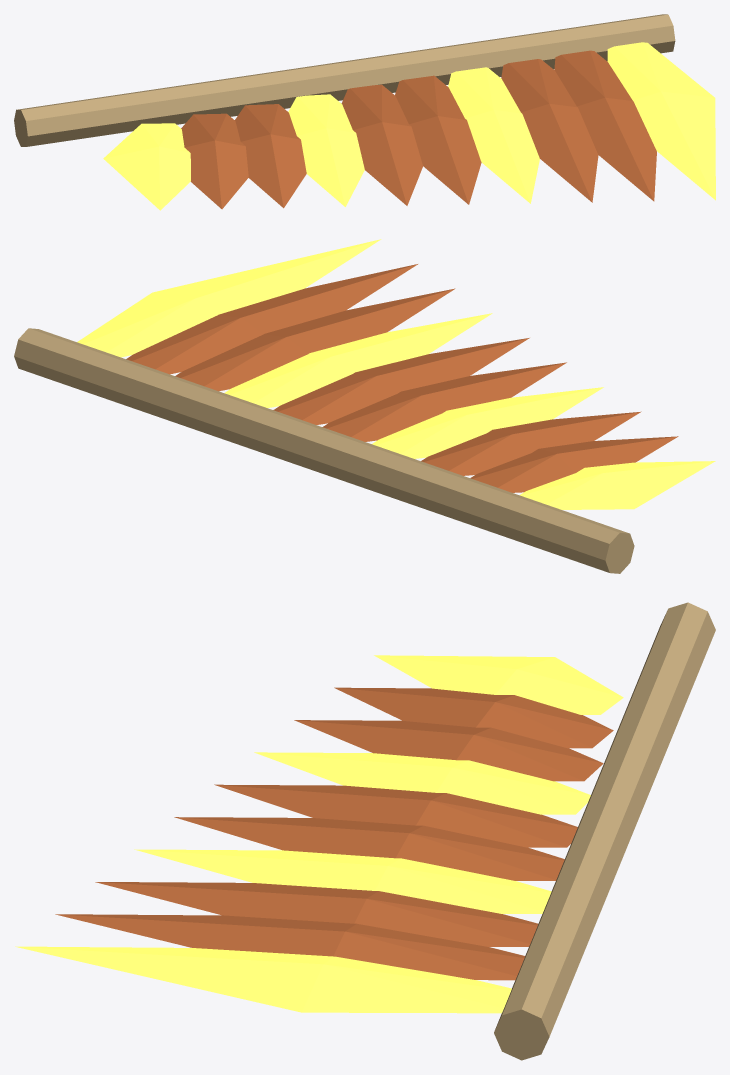
Rendered from wing_l_lod0.glb.
3 renders of one model, top to bottom at view 1: azimuth 30°, elevation 25°; view 2: azimuth 150°, elevation 25°; view 3: azimuth 270°, elevation 25°, orthographic. The views are drawn at different scales.
Visible parts, largest first — view 1: phoenix_wing_l_LOD0; view 2: phoenix_wing_l_LOD0; view 3: phoenix_wing_l_LOD0.
Part boxes in pixels (box(x1,y1,x2,y2)): phoenix_wing_l_LOD0: box(14, 14, 715, 210); phoenix_wing_l_LOD0: box(14, 239, 715, 573); phoenix_wing_l_LOD0: box(15, 602, 715, 1060).
Size of the model in its own units: 5.76 by 0.38 by 4.22.
